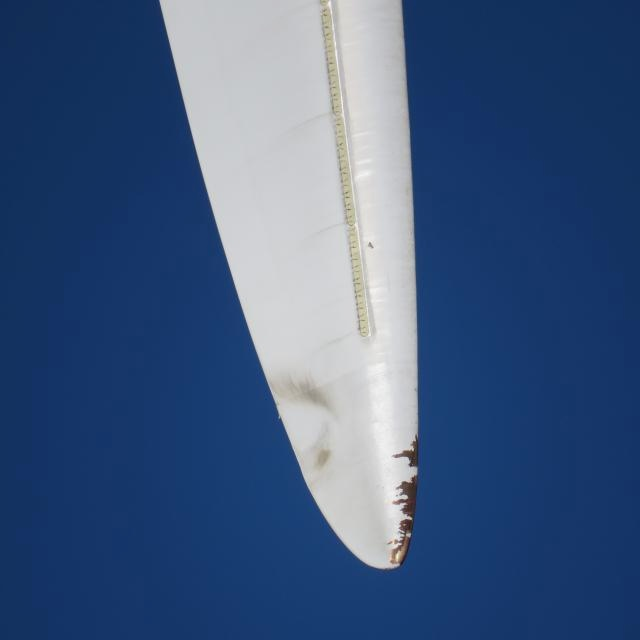EROSION: (389, 426, 420, 570)
